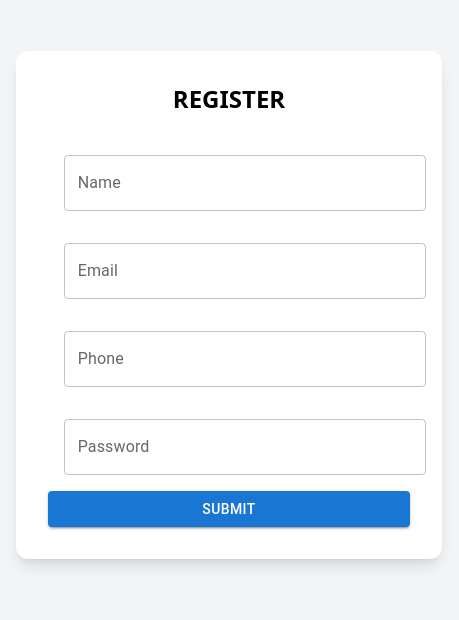
Test case: Register Form › shows error messages for invalid input
Click the button "SUBMIT". click: point(229, 509)
box: left=48, top=491, right=410, bottom=527
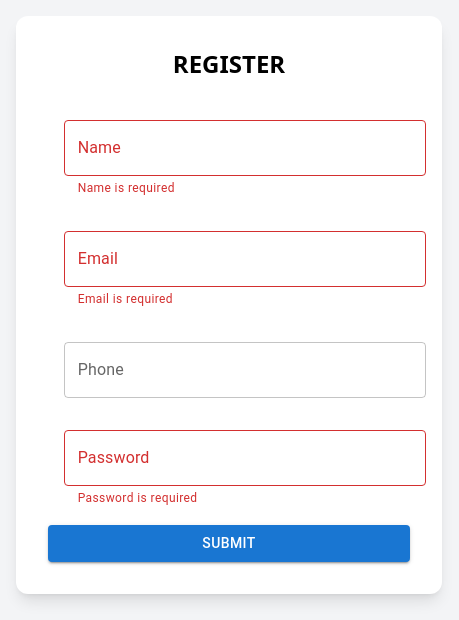
Now the text "Name is required" is shown, box left=78, top=181, right=175, bottom=195
Now the text "Email is required" is shown, box left=78, top=292, right=173, bottom=306
Now the text "Password is required" is shown, box left=78, top=491, right=198, bottom=505
